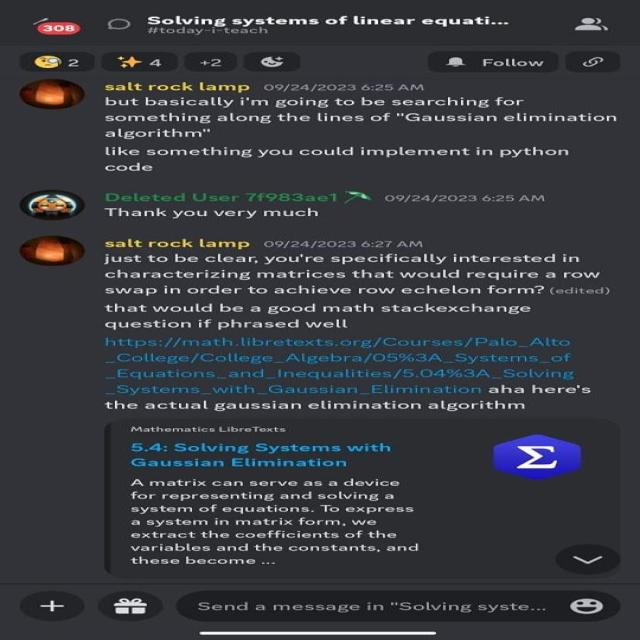BackgroundImage: (106, 417, 626, 580)
Drawer: (19, 589, 85, 622), (100, 590, 163, 622), (556, 543, 616, 574), (244, 51, 303, 74), (566, 50, 624, 73), (32, 15, 83, 38), (574, 16, 612, 34), (571, 598, 604, 616), (105, 18, 133, 30)
EditText: (489, 432, 584, 481), (20, 188, 86, 222), (20, 235, 84, 266), (19, 80, 86, 108)
Icon: (103, 335, 580, 381), (133, 441, 400, 470), (103, 383, 485, 398)
Modal: (105, 250, 618, 330), (104, 95, 626, 170), (126, 477, 422, 567), (145, 15, 514, 34), (100, 399, 530, 411), (100, 205, 326, 217), (260, 238, 428, 250), (264, 83, 428, 93), (385, 193, 549, 203), (488, 384, 596, 394)
